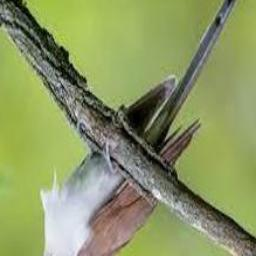Cuckoo: (23, 0, 244, 256)
